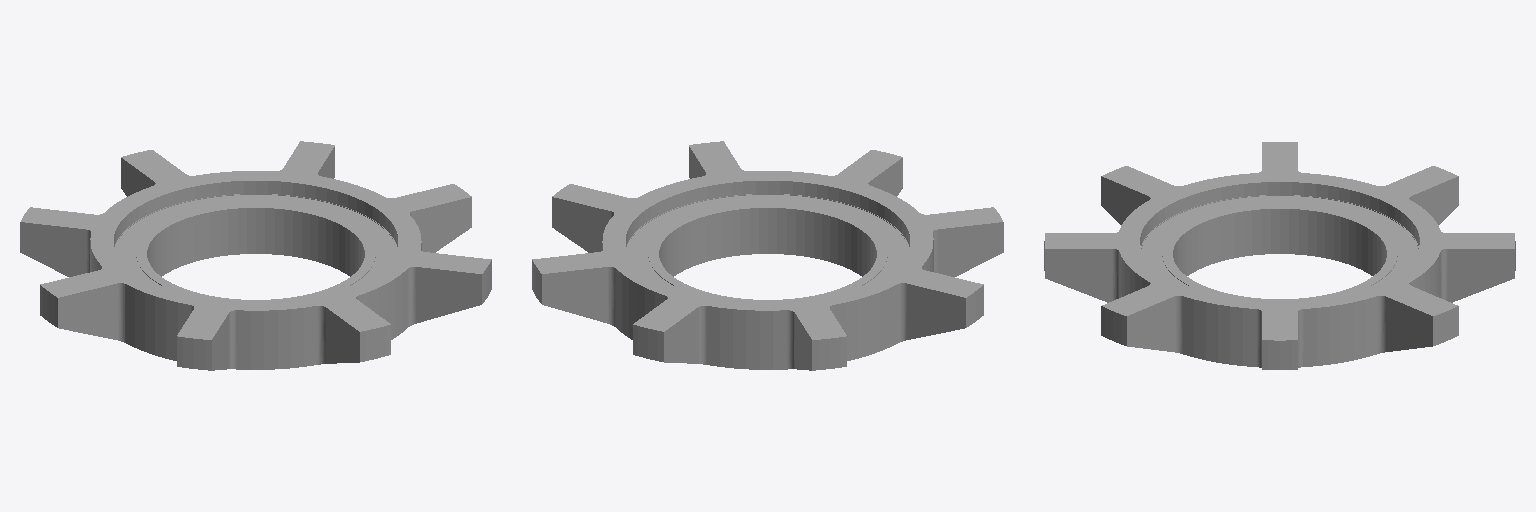
robot.urdf — L2_milled_Ro_2:
<robot name="L2_milled_Ro_2">
	<link name="baselink" />
	<joint name="dummy" type="fixed">
		<parent link="baselink" />
		<child link="geometry" />
	</joint>
	<link name="geometry">
		<contact>
			<lateral_friction value="1.0" />
			<spinning_friction value="0.2" />
			<rolling_friction value="0.001" />
			<contact_cfm value="0.0" />
			<contact_erp value="0.8" />
			<damping value="1000" />
			<stiffness value="30000" />
		</contact>
		<inertial>
			<origin rpy="0 0 0" xyz="-5.785108780182329e-07 -2.044221586390296e-08 93.44705210017757" />
			<mass value="1.0" />
			<inertia ixx="1" ixy="0" ixz="0" iyy="1" iyz="0" izz="1" />
		</inertial>
		<visual>
			<origin rpy="0 0 0" xyz="0 0 0" />
			<geometry>
				<mesh filename="mesh/L2_milled_Ro_2.stl" />
			</geometry>
			<material name="base">
				<color rgba="0.7 0.7 0.7 1" />
			</material>
		</visual>
		<collision>
			<origin rpy="0 0 0" xyz="0 0 0" />
			<geometry>
				<mesh filename="mesh/L2_milled_Ro_2.stl" />
			</geometry>
		</collision>
	</link>
</robot>

--- Facts derived from the render (not from the file) ---
The picture shows the robot from 3 angles, left to right: view 1: azimuth 30°, elevation 25°; view 2: azimuth 150°, elevation 25°; view 3: azimuth 270°, elevation 25°; orthographic projection.
Model L2_milled_Ro_2 with 2 links and 1 joints (1 fixed), rooted at baselink, posed all joints at 0.
Links seen in each view (by area): view 1: geometry; view 2: geometry; view 3: geometry.
Boxes of the visible links, <box> form: geometry: <box>20,141,491,370</box>; geometry: <box>532,141,1003,370</box>; geometry: <box>1044,142,1515,369</box>.
Size in the robot's own frame: 66 by 66 by 9 metres.
1 mesh visuals loaded from 1 distinct referenced files (1 binary STL).